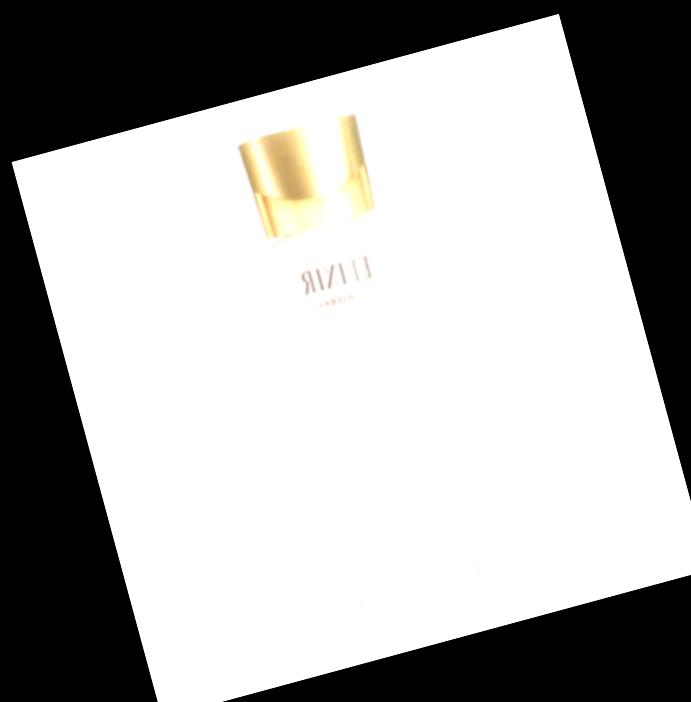cosmetic: (232, 110, 481, 618)
